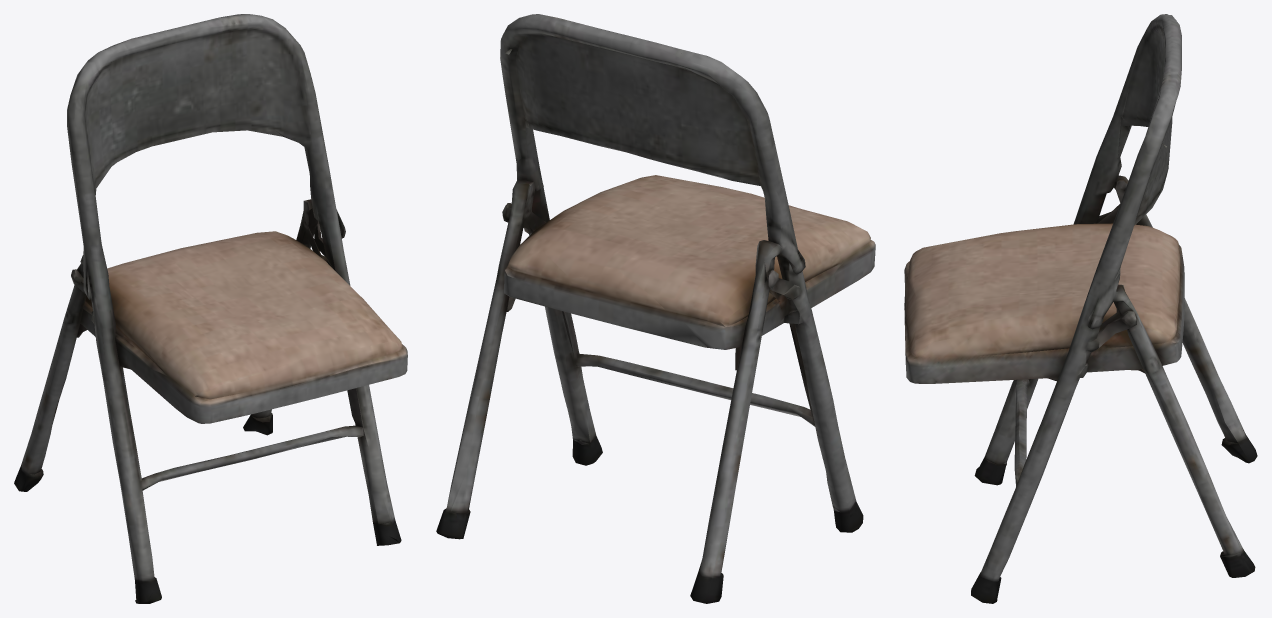
File: p7-folding-chair.glb
The picture shows the model from 3 angles, left to right: view 1: azimuth 30°, elevation 25°; view 2: azimuth 150°, elevation 25°; view 3: azimuth 270°, elevation 25°; orthographic projection. The views are drawn at different scales.
Visible parts, largest first — view 1: p7-folding-chair; view 2: p7-folding-chair; view 3: p7-folding-chair.
Part boxes in pixels (x1,y1,x2,y2): p7-folding-chair: (14,14,407,603); p7-folding-chair: (436,14,875,603); p7-folding-chair: (904,14,1257,603).
Size of the model in its own units: 0.45 by 0.8 by 0.52.
1 material, 1 textured.
